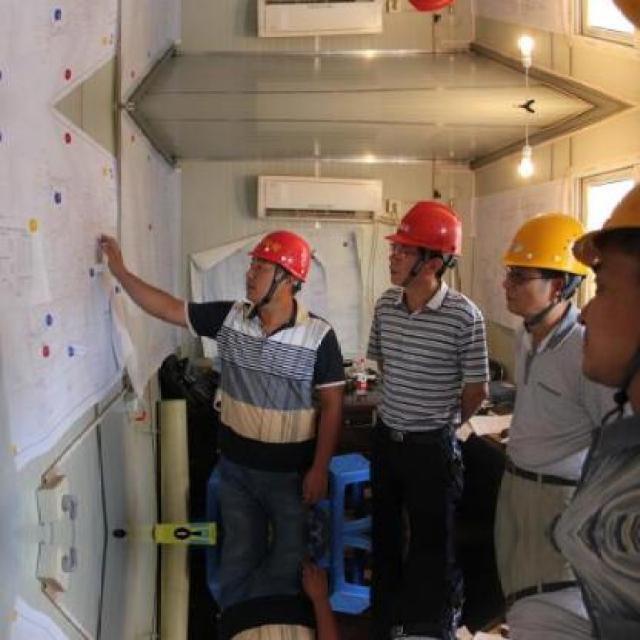helmet: (575, 174, 637, 395), (498, 204, 591, 328), (388, 196, 468, 293), (243, 225, 317, 301)
